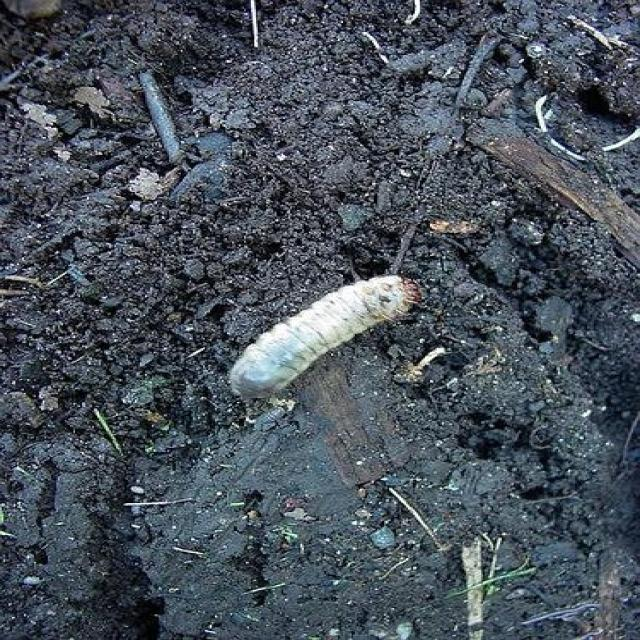grub: (228, 277, 419, 403)
